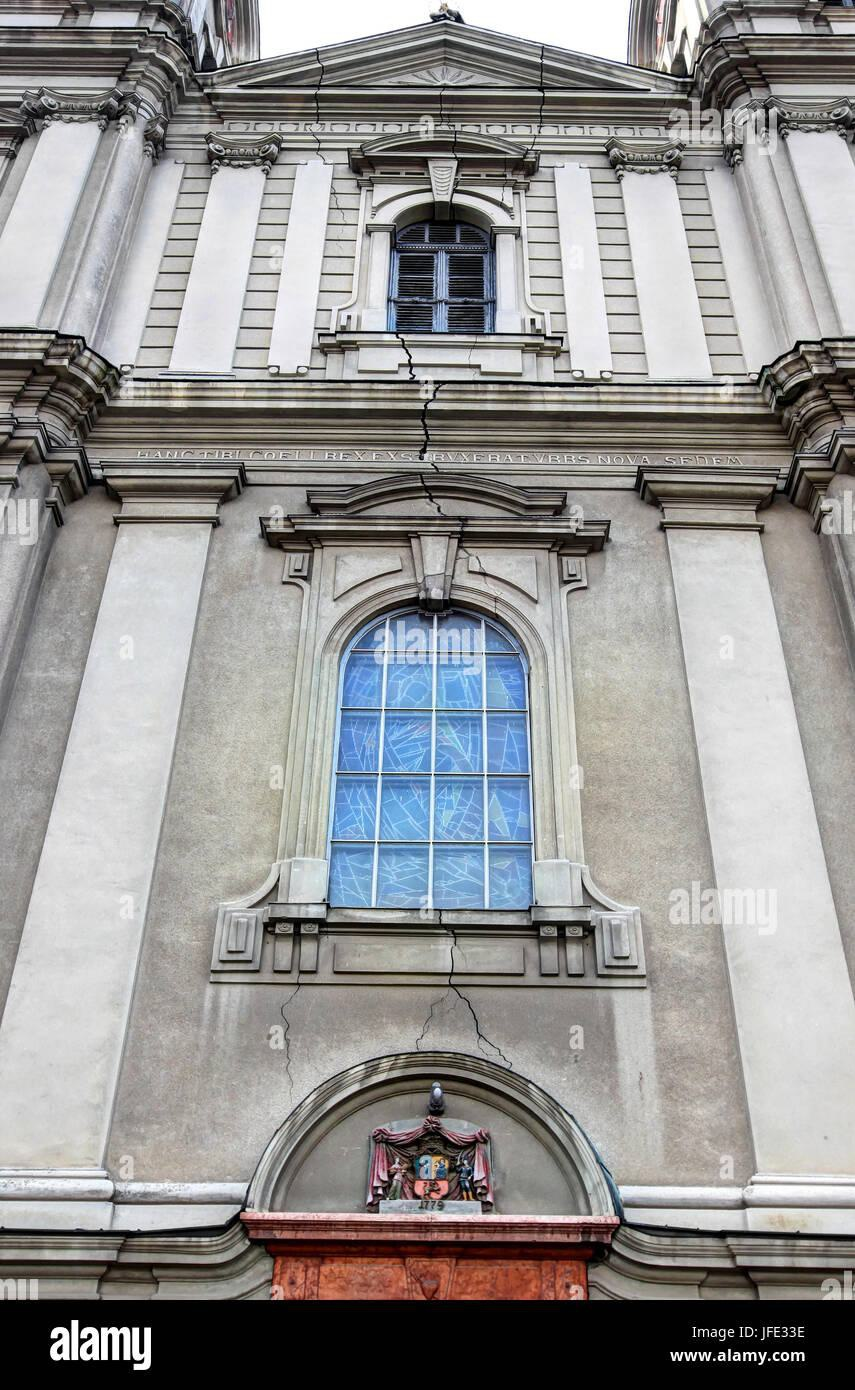crack: (401, 453, 481, 553), (387, 326, 448, 433), (297, 46, 344, 176), (438, 925, 490, 1036), (522, 35, 562, 173)
